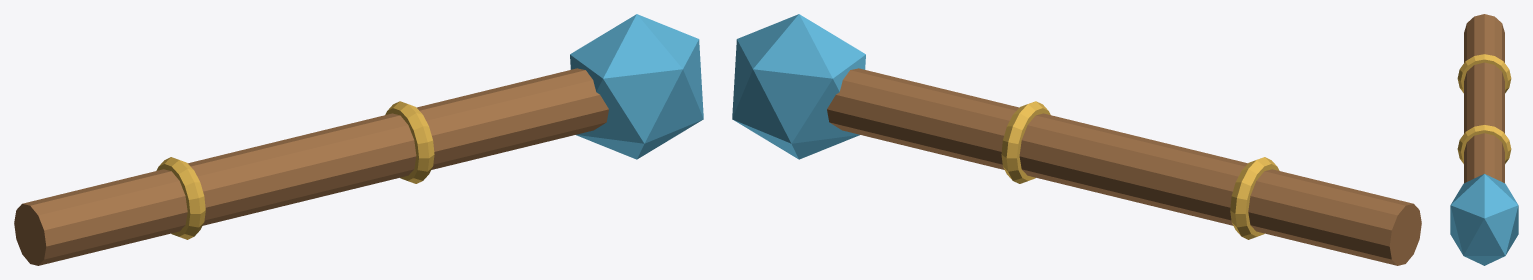
The model's file is stick.glb.
3 renders of one model, left to right at view 1: azimuth 30°, elevation 25°; view 2: azimuth 150°, elevation 25°; view 3: azimuth 270°, elevation 25°, orthographic. The views are drawn at different scales.
Visible parts, largest first — view 1: carved_wand, crystal_tip, metal_band_-0.15, metal_band_0.08; view 2: carved_wand, crystal_tip, metal_band_-0.15, metal_band_0.08; view 3: carved_wand, crystal_tip, metal_band_-0.15, metal_band_0.08.
Boxes of the visible parts, box(x1,y1,x2,y2) form: carved_wand: box(14, 68, 608, 265); crystal_tip: box(570, 14, 703, 159); metal_band_-0.15: box(156, 157, 205, 239); metal_band_0.08: box(385, 101, 434, 183); carved_wand: box(827, 68, 1421, 265); crystal_tip: box(732, 14, 865, 159); metal_band_-0.15: box(1230, 157, 1279, 239); metal_band_0.08: box(1001, 101, 1050, 183); carved_wand: box(1464, 14, 1504, 183); crystal_tip: box(1450, 174, 1518, 265); metal_band_-0.15: box(1457, 54, 1511, 93); metal_band_0.08: box(1457, 125, 1511, 163).
Bounding box in the file's own units: 0.6726 × 0.14 × 0.0936.
